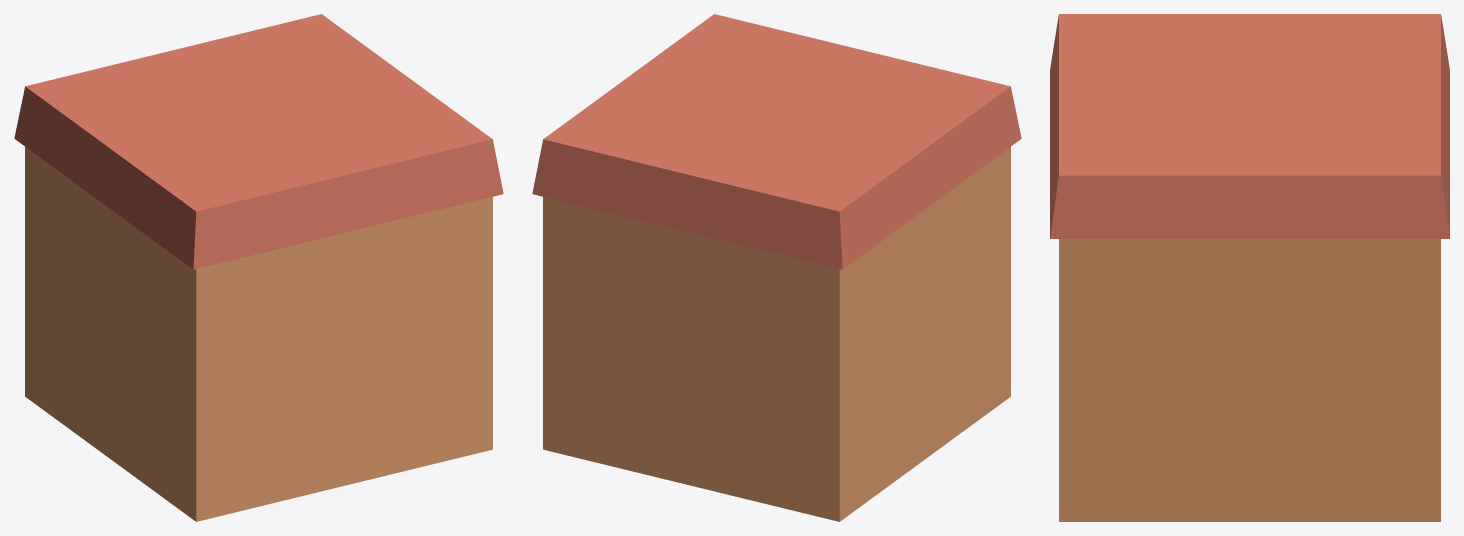
The picture shows the model from 3 angles, left to right: view 1: azimuth 30°, elevation 25°; view 2: azimuth 150°, elevation 25°; view 3: azimuth 270°, elevation 25°; orthographic projection. The views are drawn at different scales.
Parts seen in each view (by area): view 1: box; view 2: box; view 3: box.
Part boxes in pixels (box(x1,y1,x2,y2)): box: box(14, 14, 503, 521); box: box(532, 14, 1021, 521); box: box(1050, 14, 1449, 521).
Size of the model in its own units: 0.3084 by 0.2948 by 0.3084.
1 material, 1 textured.
